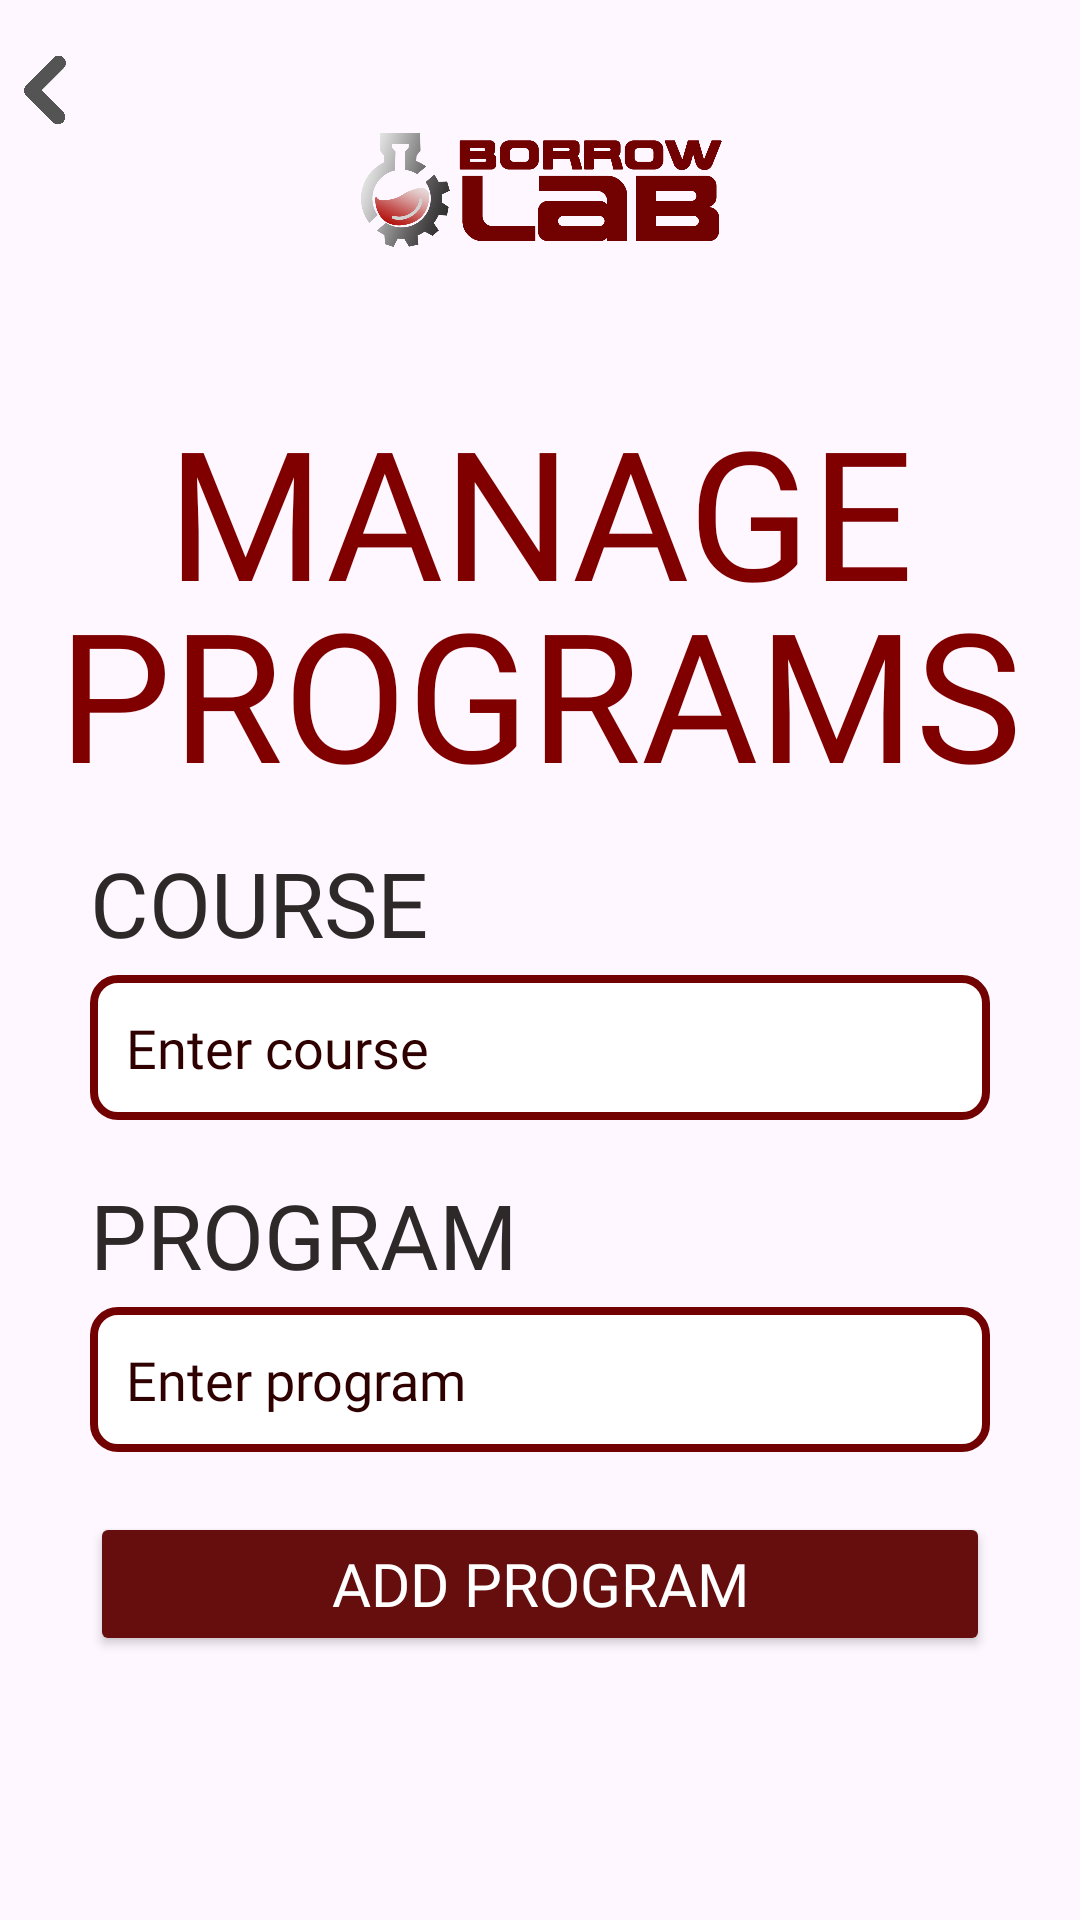

Icons on this 1080*1920 Android screen, each with its box as (x1, y1, x2, y2):
Back Button: (24, 56, 66, 124)
